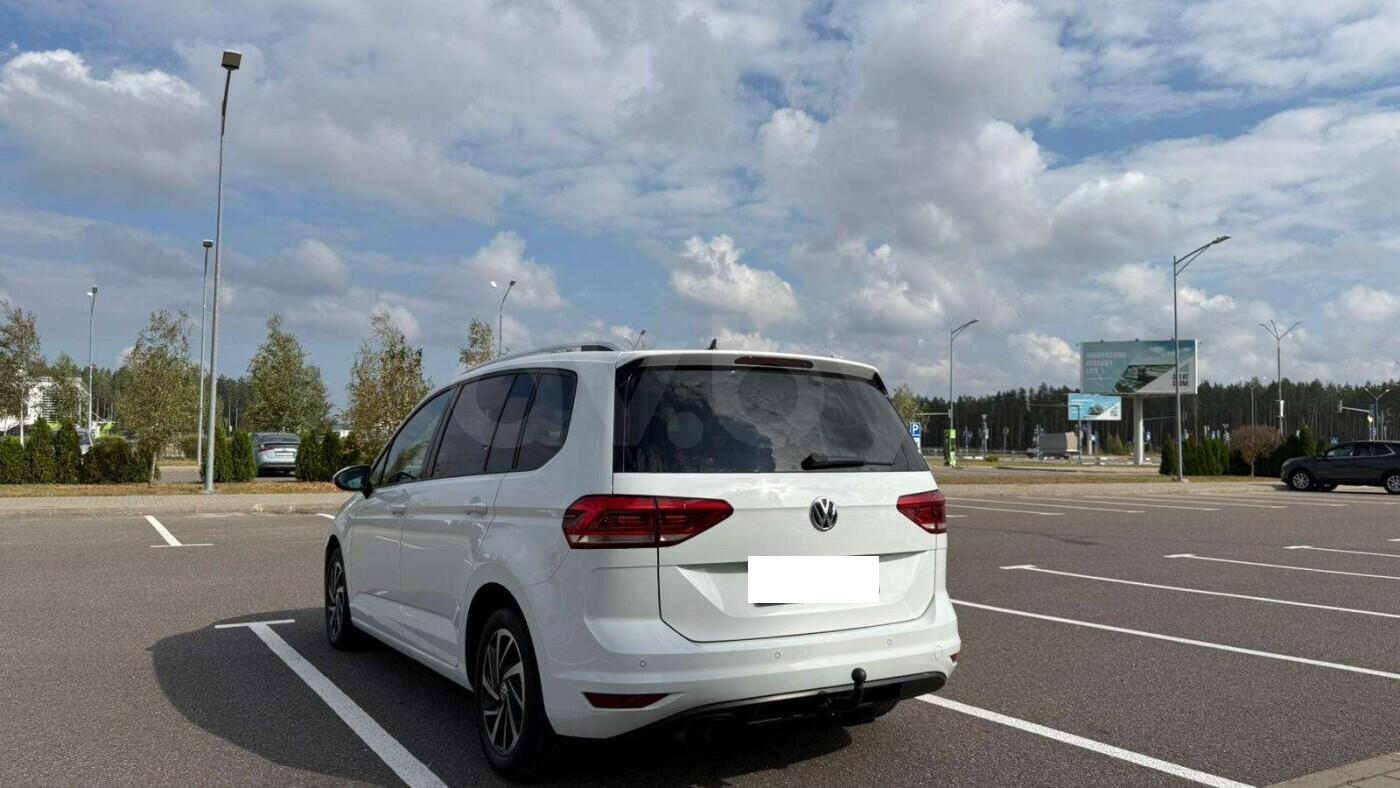Touran_2015: (318, 345, 972, 772)
